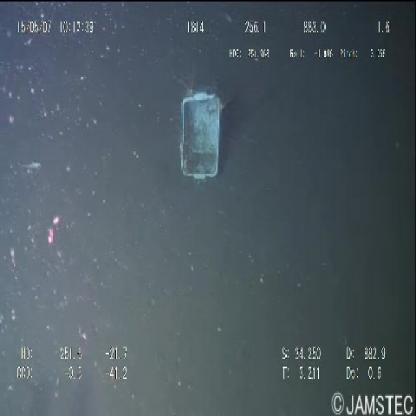Rác: (176, 76, 228, 186)
